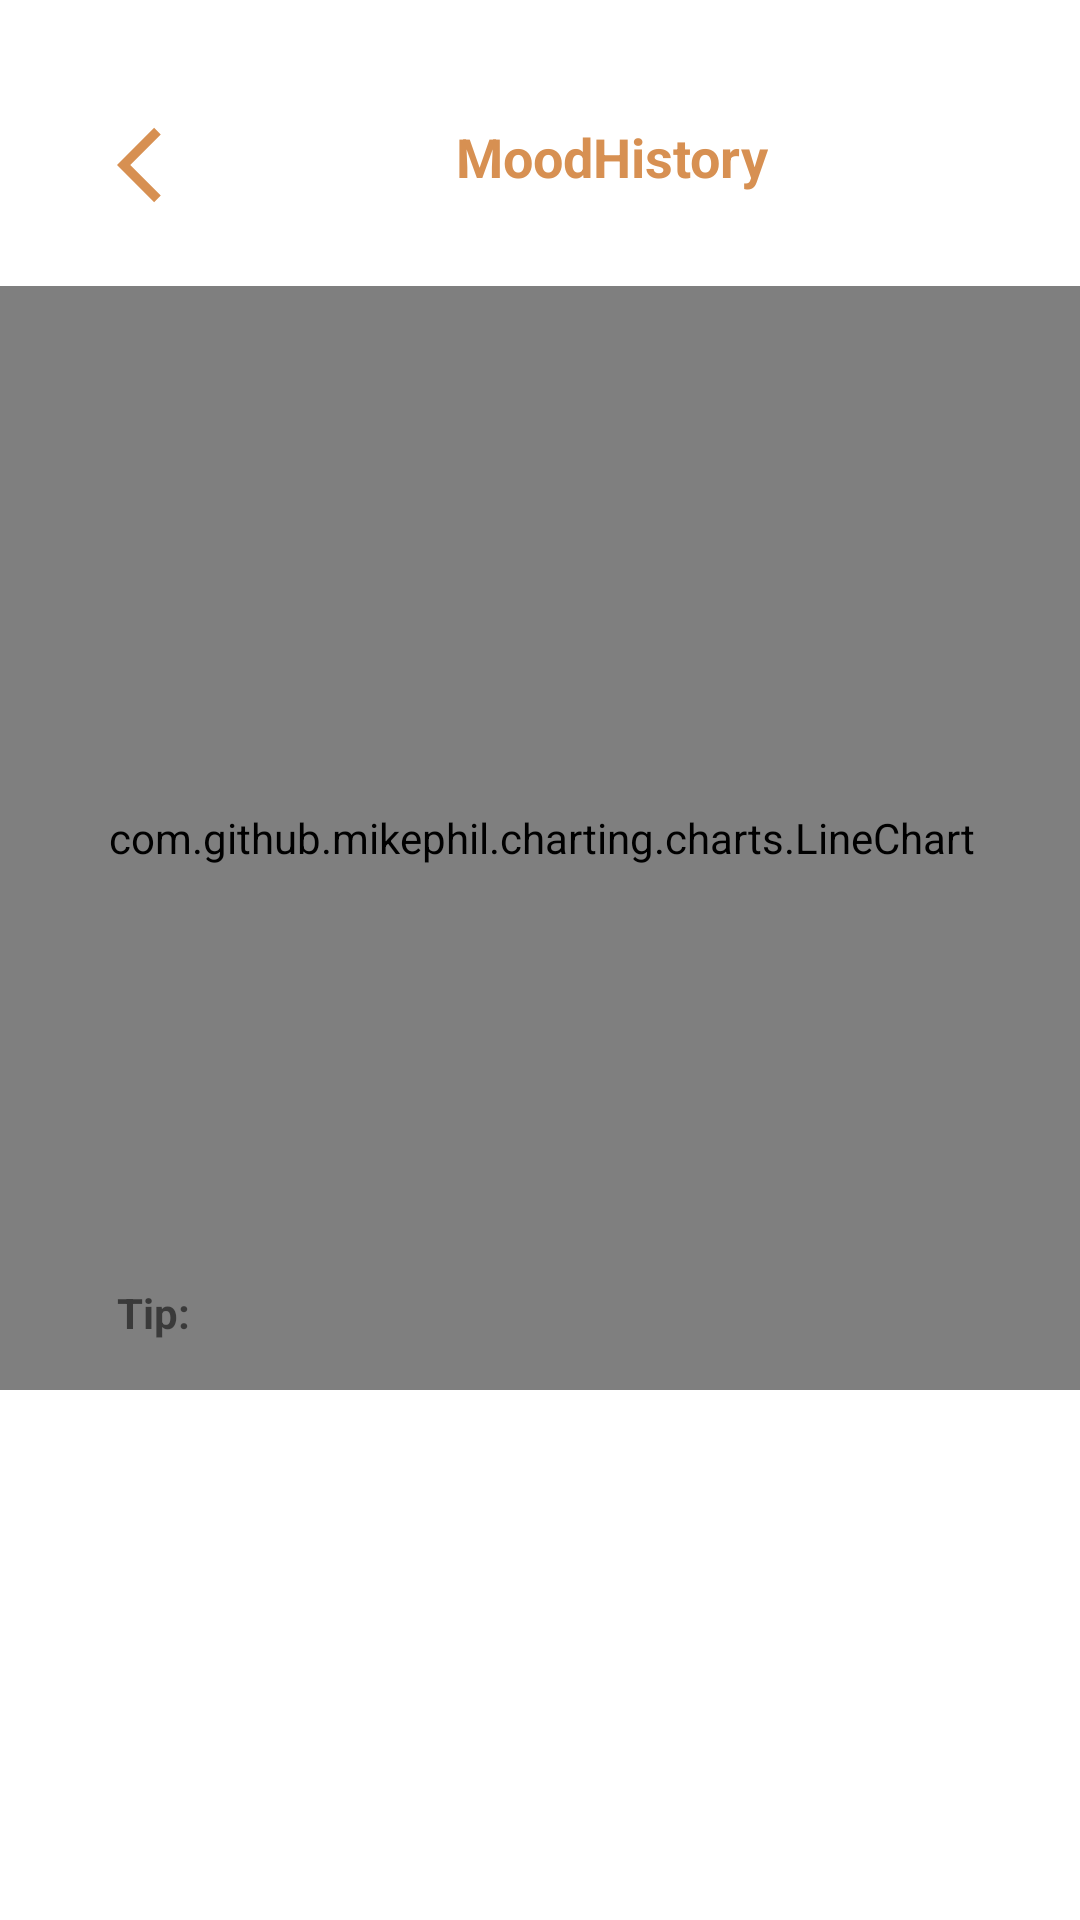

Icon bounding boxes for this 1080×1920 phone screenshot, format box=[x1, y1, x2, y2]:
arrow back: box=[117, 128, 161, 202]
